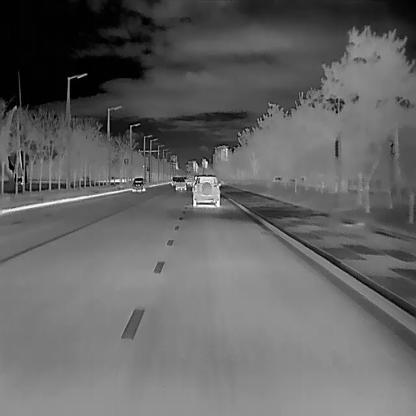car: (192, 175, 220, 206), (132, 176, 145, 191), (175, 176, 186, 190), (185, 176, 194, 185), (171, 176, 179, 186)
